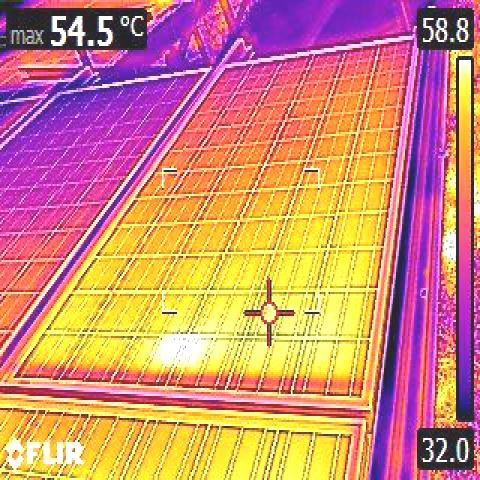fault: (162, 336, 196, 367)
